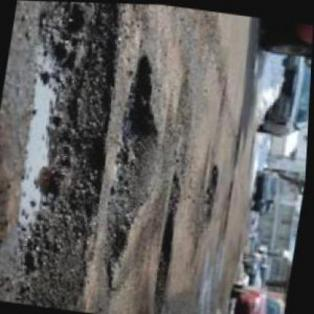Hueco: (94, 51, 174, 296), (149, 167, 192, 313), (199, 162, 224, 230)
